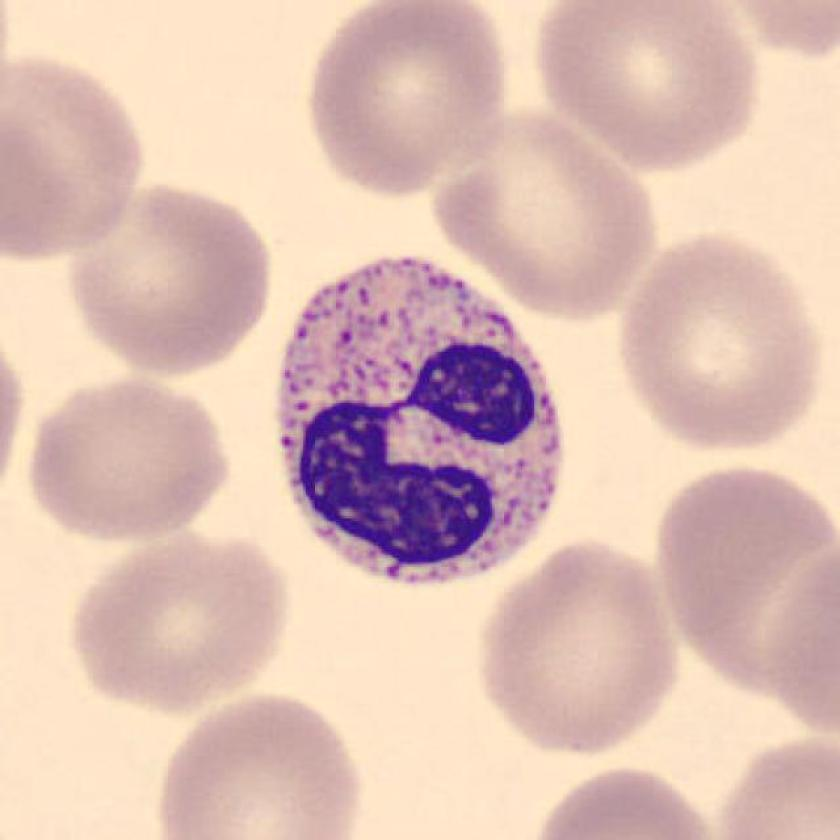neutrophil: (278, 257, 564, 584)
